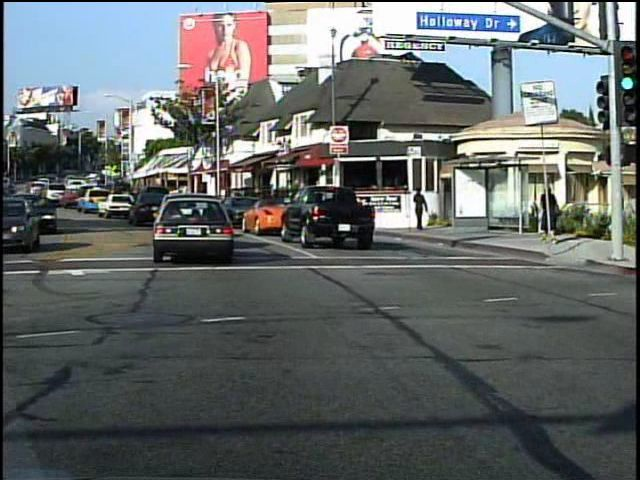person: (534, 180, 564, 253), (412, 186, 429, 235)
